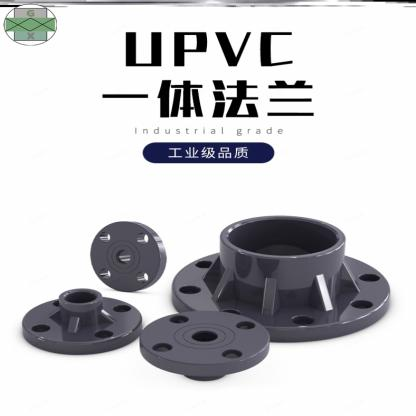FOD: (169, 213, 393, 345), (136, 307, 275, 384), (13, 286, 146, 360), (87, 220, 167, 294)
